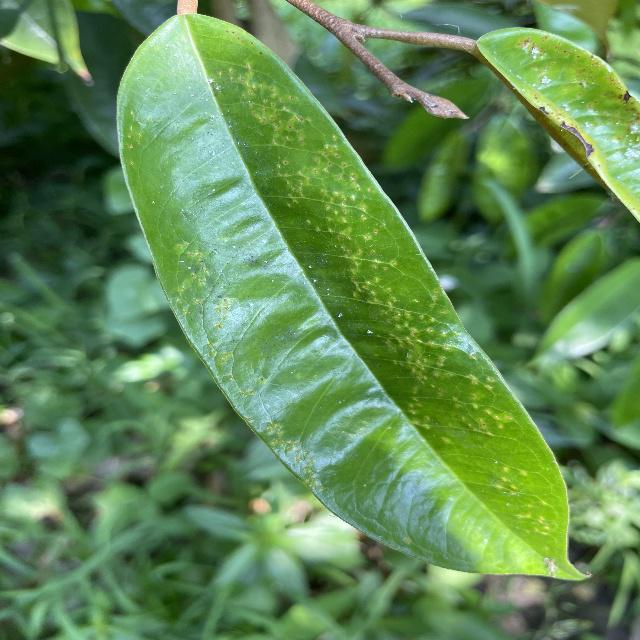Leaf Spot: (113, 11, 598, 588)
